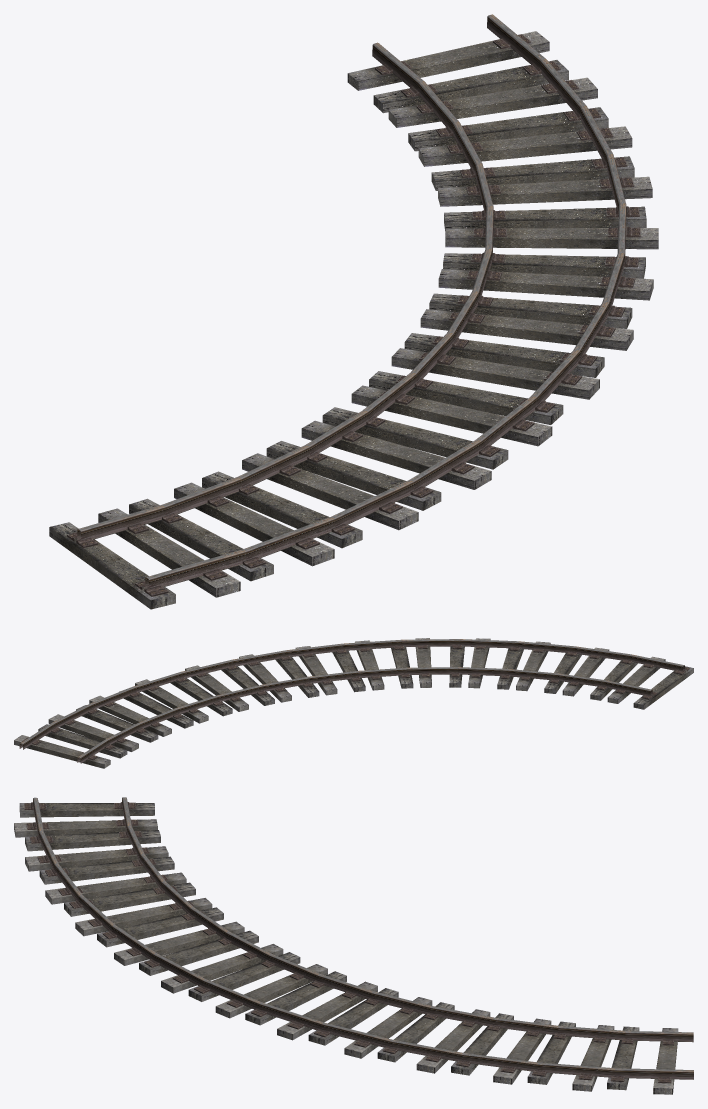
File: rails90.obj
3 views of the same model, one above another, from view 1: azimuth 30°, elevation 25°; view 2: azimuth 150°, elevation 25°; view 3: azimuth 270°, elevation 25° (orthographic). The views are drawn at different scales.
Visible parts, largest first — view 1: wood_shpala_01, veh_rai, veh_rail_bolt006; view 2: wood_shpala_01, veh_rai, veh_rail_bolt006; view 3: wood_shpala_01, veh_rai, veh_rail_bolt006.
Boxes of the visible parts, x1=… form: wood_shpala_01: x1=49, y1=31, x2=658, y2=609; veh_rai: x1=77, y1=14, x2=626, y2=588; veh_rail_bolt006: x1=67, y1=34, x2=640, y2=596; wood_shpala_01: x1=14, y1=638, x2=693, y2=768; veh_rai: x1=19, y1=639, x2=684, y2=763; veh_rail_bolt006: x1=22, y1=645, x2=690, y2=759; wood_shpala_01: x1=14, y1=803, x2=678, y2=1094; veh_rai: x1=33, y1=797, x2=693, y2=1079; veh_rail_bolt006: x1=24, y1=802, x2=673, y2=1083.
Size of the model in its own units: 17.59 by 0.412 by 17.69.
3 materials, 3 textured.
